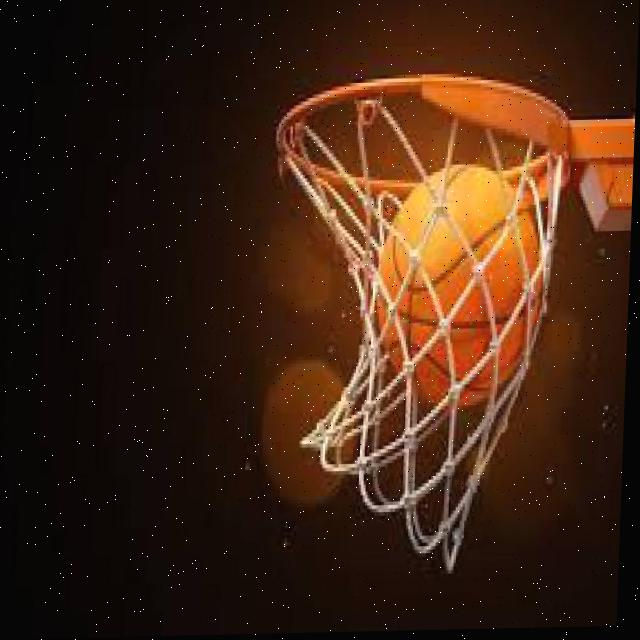Goal: (374, 163, 549, 408)
